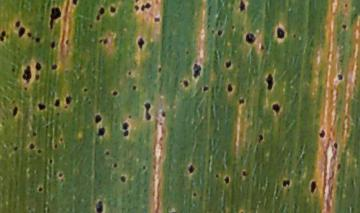tarspot: (48, 6, 62, 31), (20, 63, 32, 86), (142, 101, 152, 122), (264, 73, 274, 92), (191, 63, 202, 80), (244, 31, 257, 45), (274, 26, 286, 41), (94, 199, 105, 213), (135, 36, 145, 51), (95, 126, 106, 138), (270, 103, 281, 114), (140, 2, 152, 12), (237, 1, 247, 13), (280, 178, 291, 188), (17, 26, 25, 39), (37, 102, 47, 112), (93, 114, 103, 124), (179, 79, 189, 89), (186, 164, 196, 174), (64, 94, 73, 105), (256, 133, 265, 144), (309, 180, 316, 194), (11, 106, 19, 118), (96, 6, 106, 15), (108, 4, 117, 14), (119, 121, 129, 130), (222, 175, 231, 185), (224, 59, 233, 69), (317, 128, 326, 138), (26, 142, 36, 150), (226, 82, 233, 93), (48, 40, 56, 49), (34, 62, 42, 71), (53, 98, 61, 107), (153, 15, 161, 24), (331, 142, 340, 150), (1, 29, 6, 43), (111, 89, 119, 97), (119, 175, 127, 183), (122, 129, 130, 137), (159, 110, 167, 118), (216, 29, 224, 37), (336, 73, 344, 81), (14, 19, 21, 28), (102, 37, 109, 46), (49, 63, 58, 70), (11, 145, 20, 152), (202, 84, 209, 93), (33, 36, 41, 43), (52, 142, 59, 150), (36, 186, 44, 193), (103, 150, 111, 157), (133, 4, 140, 12), (240, 169, 247, 177), (238, 97, 245, 105), (335, 162, 342, 170), (70, 1, 80, 6), (26, 31, 33, 38), (130, 84, 137, 91), (127, 70, 134, 77), (87, 23, 94, 30), (47, 158, 54, 165), (54, 110, 61, 117), (340, 22, 347, 29), (10, 66, 16, 74), (95, 14, 101, 22), (34, 73, 40, 81), (64, 38, 70, 46), (82, 87, 89, 93), (30, 131, 37, 137), (36, 148, 42, 155), (56, 172, 63, 178), (112, 162, 118, 169), (157, 66, 163, 73), (259, 44, 266, 50), (58, 137, 64, 143), (184, 49, 190, 55), (23, 85, 28, 92), (62, 104, 69, 109), (140, 165, 147, 170), (126, 114, 133, 119), (230, 24, 235, 31), (210, 29, 215, 36), (98, 38, 103, 44), (192, 191, 197, 197), (291, 33, 296, 39), (5, 33, 9, 40), (214, 173, 219, 178), (343, 3, 348, 8)
